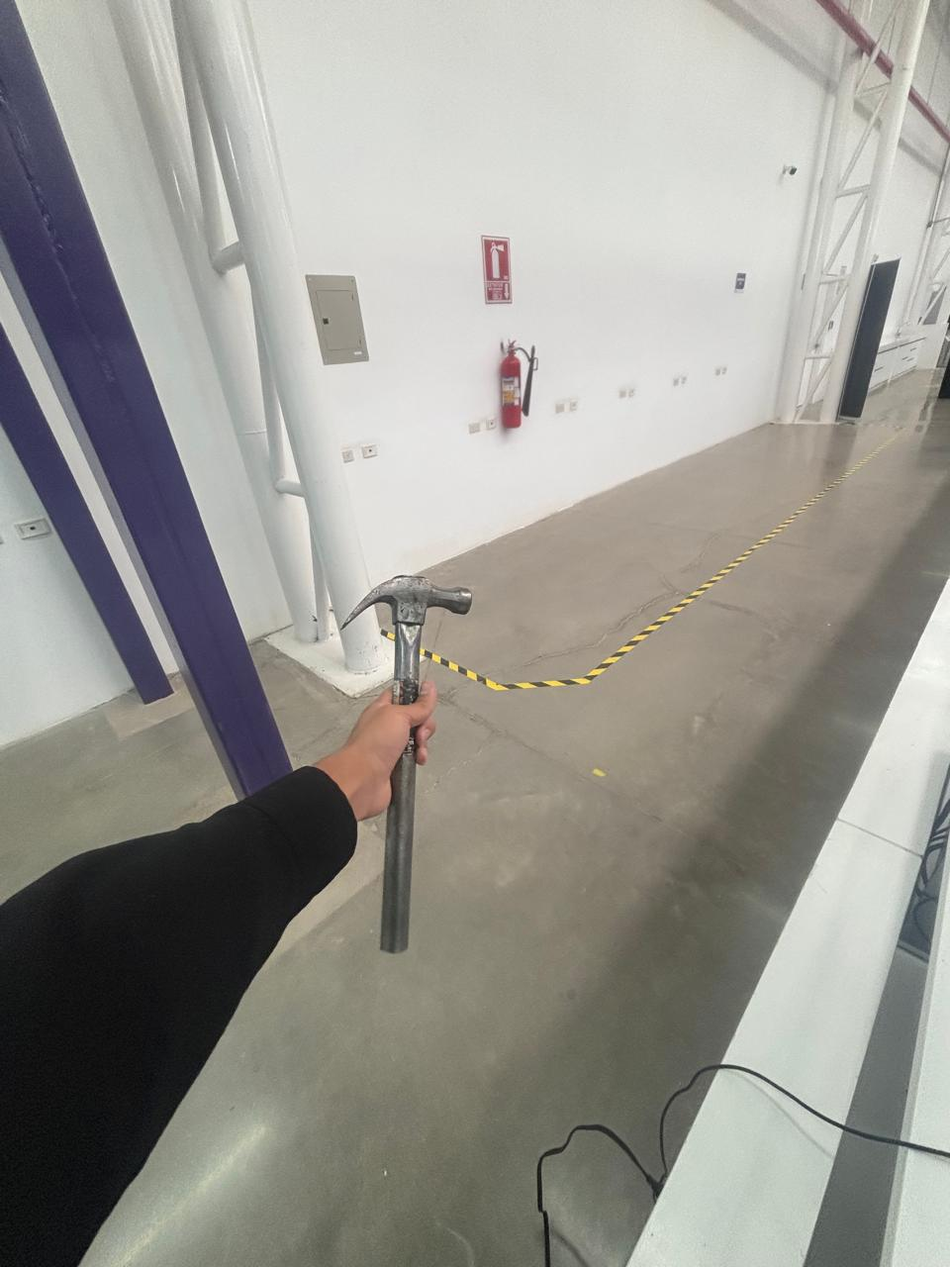hammer: (329, 568, 475, 971)
